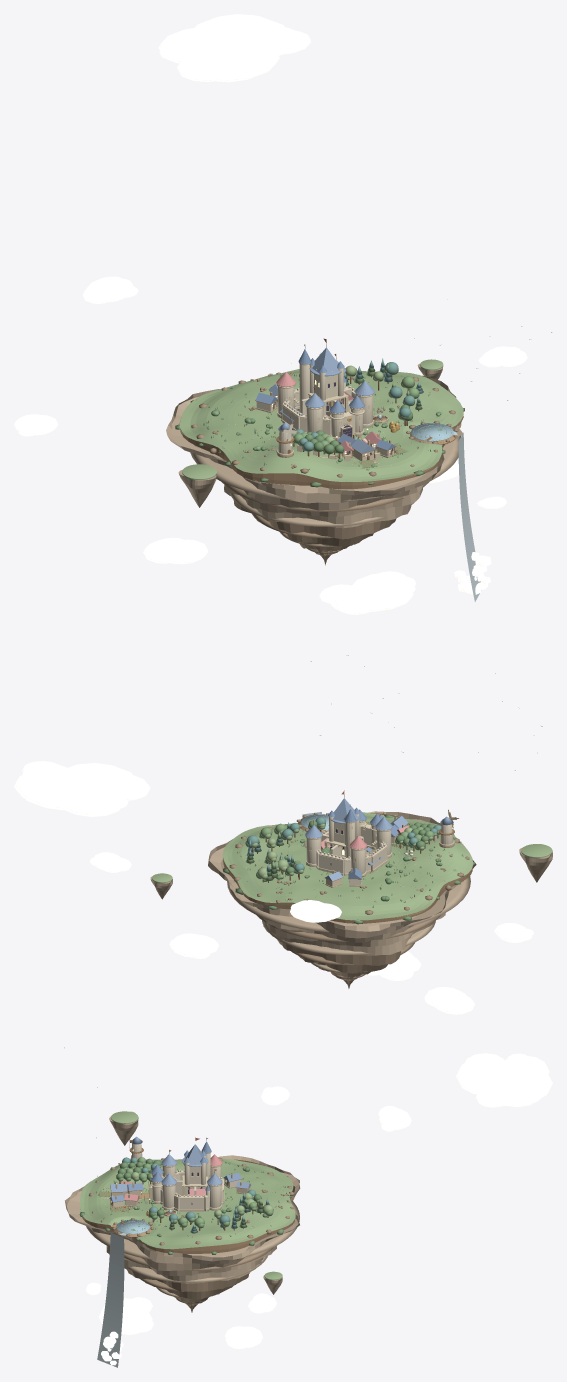
3 views of the same model, one above another, from view 1: azimuth 30°, elevation 25°; view 2: azimuth 150°, elevation 25°; view 3: azimuth 270°, elevation 25° (orthographic). The views are drawn at different scales.
Parts seen in each view (by area): view 1: 草甸_顶面, 岩体_主岛, 云_高空, 云_下方A, 岩檐_0, 云_下方B, 瀑布, 云_后方, 水雾, 岩檐_2, 云_右侧, 云_左远; view 2: 草甸_顶面, 岩体_主岛, 云_高空, 岩檐_0, 云_下方B, 云_下方C, 云_后方, 云_下方A, 岩檐_2, 云_右侧, 云_左远, 岩檐_1 (+1 smaller); view 3: 草甸_顶面, 岩体_主岛, 云_高空, 瀑布, 岩檐_0, 云_下方A, 云_下方C, 云_后方, 岩檐_2, 岩檐_1, 云_右侧, 云_左远 (+2 smaller).
Boxes of the visible parts, x1=… form: 草甸_顶面: x1=179, y1=369, x2=463, y2=489; 岩体_主岛: x1=166, y1=368, x2=463, y2=565; 云_高空: x1=158, y1=14, x2=311, y2=82; 云_下方A: x1=319, y1=571, x2=416, y2=614; 岩檐_0: x1=190, y1=436, x2=460, y2=501; 云_下方B: x1=143, y1=537, x2=207, y2=564; 瀑布: x1=458, y1=432, x2=481, y2=601; 云_后方: x1=82, y1=276, x2=138, y2=303; 水雾: x1=454, y1=552, x2=491, y2=594; 岩檐_2: x1=229, y1=488, x2=422, y2=526; 云_右侧: x1=478, y1=346, x2=527, y2=367; 云_左远: x1=14, y1=414, x2=58, y2=436; 草甸_顶面: x1=222, y1=812, x2=473, y2=923; 岩体_主岛: x1=208, y1=811, x2=476, y2=988; 云_高空: x1=14, y1=761, x2=150, y2=816; 岩檐_0: x1=227, y1=874, x2=470, y2=932; 云_下方B: x1=424, y1=987, x2=474, y2=1014; 云_下方C: x1=169, y1=933, x2=218, y2=958; 云_后方: x1=290, y1=900, x2=341, y2=922; 云_下方A: x1=365, y1=951, x2=421, y2=980; 岩檐_2: x1=262, y1=920, x2=435, y2=954; 云_右侧: x1=89, y1=852, x2=131, y2=872; 云_左远: x1=494, y1=923, x2=533, y2=942; 岩檐_1: x1=256, y1=915, x2=441, y2=941; 草甸_顶面: x1=80, y1=1158, x2=295, y2=1254; 岩体_主岛: x1=65, y1=1155, x2=300, y2=1312; 云_高空: x1=456, y1=1053, x2=552, y2=1107; 瀑布: x1=97, y1=1233, x2=124, y2=1367; 岩檐_0: x1=86, y1=1201, x2=299, y2=1259; 云_下方A: x1=98, y1=1297, x2=153, y2=1334; 云_下方C: x1=225, y1=1326, x2=262, y2=1349; 云_后方: x1=378, y1=1106, x2=411, y2=1131; 岩檐_2: x1=126, y1=1256, x2=267, y2=1282; 岩檐_1: x1=124, y1=1247, x2=273, y2=1270; 云_右侧: x1=248, y1=1293, x2=276, y2=1313; 云_左远: x1=261, y1=1086, x2=289, y2=1105.
Bounding box in the file's own units: 190 × 137 × 225.
